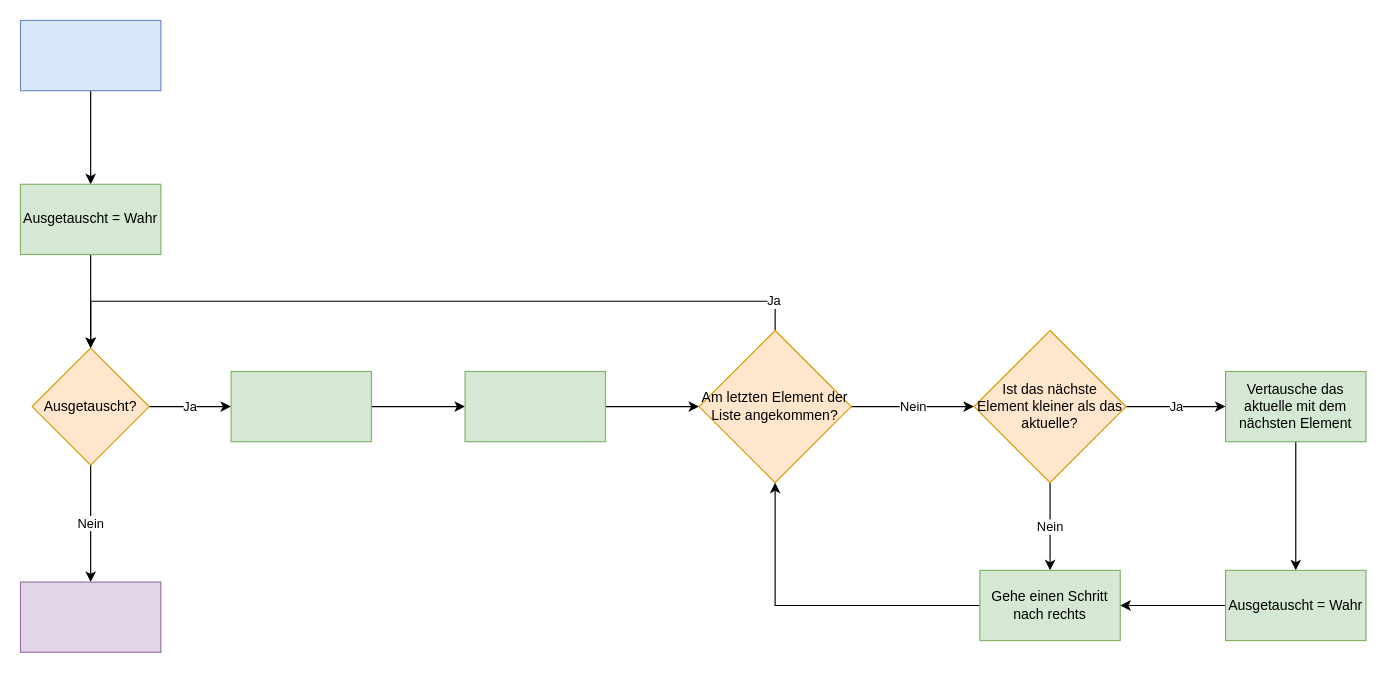
The diagram is 1386 pixels wide and 673 high, and some of its shapes have lost their labels. Each missing label, with the box of its shape:
Ausgetauscht = Falsch: (230, 370, 371, 442)
Bubble Sort: (19, 19, 161, 91)
Die Liste ist sortiert: (19, 581, 161, 652)
Gehe zum Anfang der Liste: (464, 370, 605, 442)
